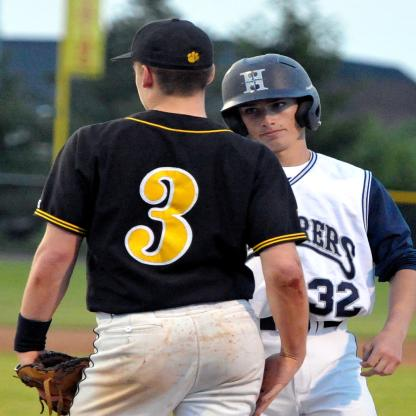Helmet: (213, 55, 326, 156)
